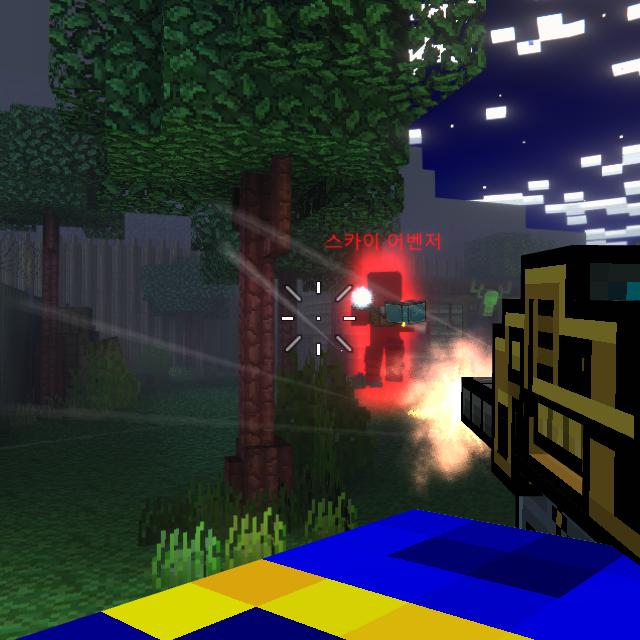Enemy: (348, 271, 425, 386)
